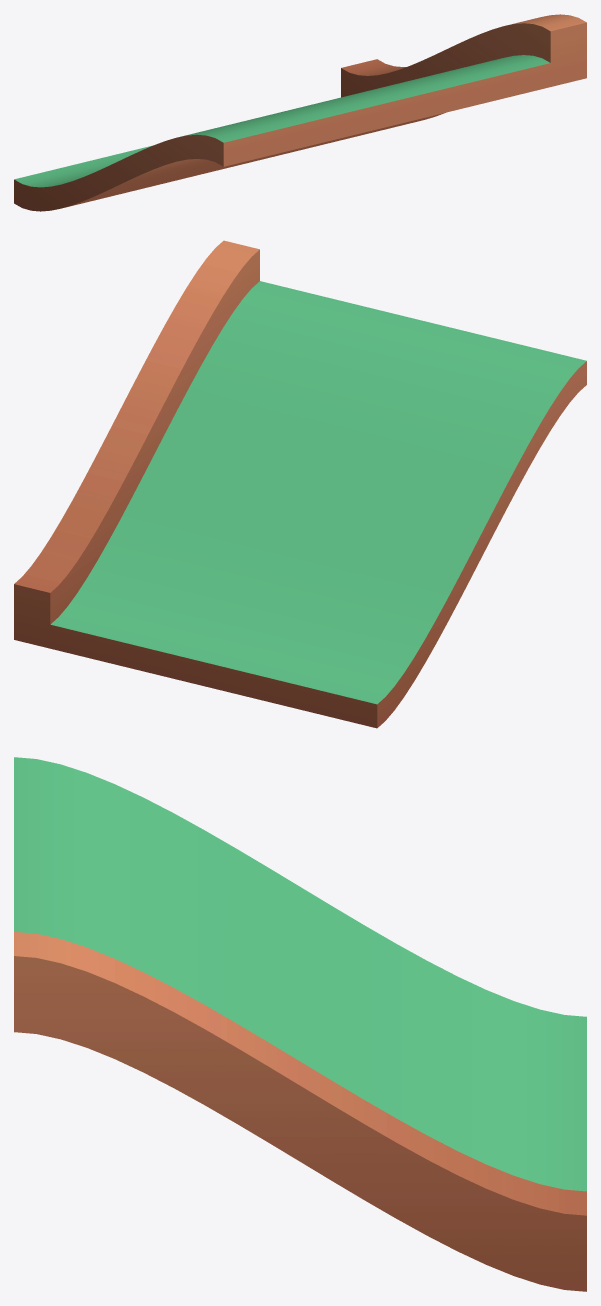
Rendered from ramp-side.glb.
3 renders of one model, top to bottom at view 1: azimuth 30°, elevation 25°; view 2: azimuth 150°, elevation 25°; view 3: azimuth 270°, elevation 25°, orthographic. The views are drawn at different scales.
Parts seen in each view (by area): view 1: ramp-side; view 2: ramp-side; view 3: ramp-side.
Boxes of the visible parts, bbox=[...] form: ramp-side: bbox=[14, 14, 586, 211]; ramp-side: bbox=[14, 240, 586, 728]; ramp-side: bbox=[14, 757, 586, 1291].
Size of the model in its own units: 0.9999 by 0.6466 by 0.9999.
Materials: 1 (1 with a texture image).
